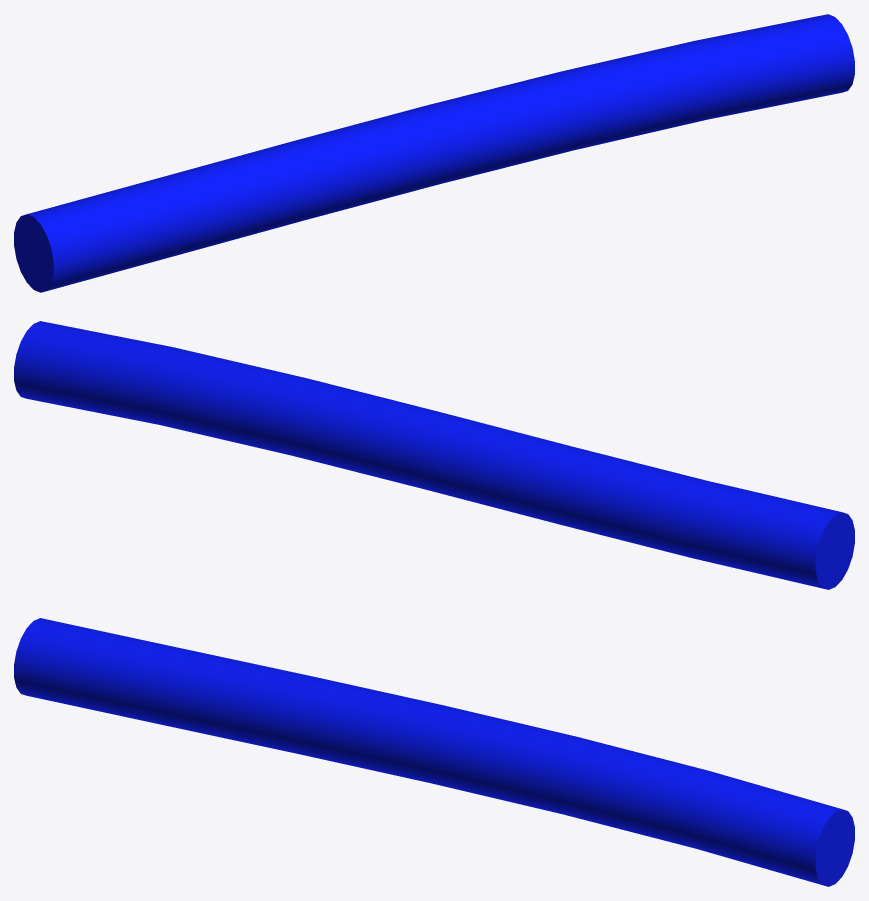
The model's file is wood_02.FBX.
3 renders of one model, top to bottom at view 1: azimuth 30°, elevation 25°; view 2: azimuth 150°, elevation 25°; view 3: azimuth 330°, elevation 25°, orthographic.
Visible parts, largest first — view 1: wood_03_LP; view 2: wood_03_LP; view 3: wood_03_LP.
Boxes of the visible parts, left/top/right/bottom form: wood_03_LP: left=14, top=14, right=854, bottom=292; wood_03_LP: left=14, top=321, right=854, bottom=589; wood_03_LP: left=14, top=618, right=854, bottom=886.
Bounding box in the file's own units: 250 × 23.95 × 23.82.
